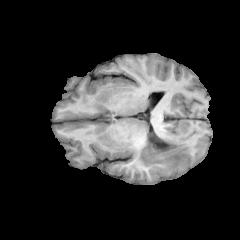glioma: (98, 135, 191, 168)
